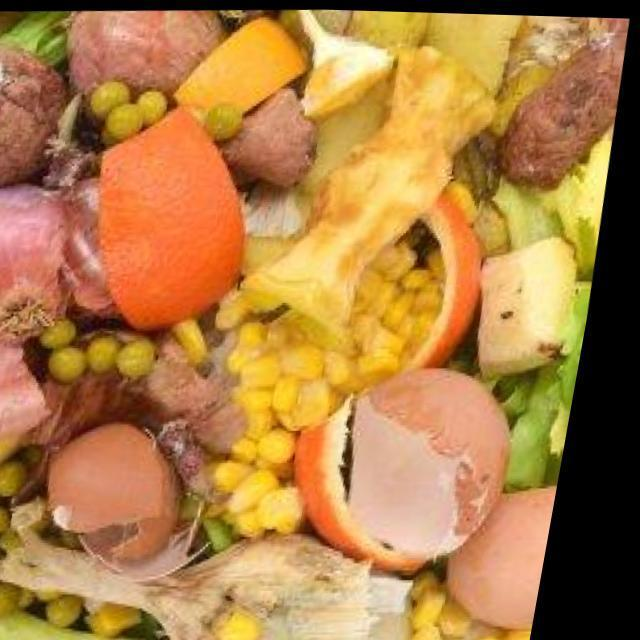Garbage: (0, 7, 629, 640)
